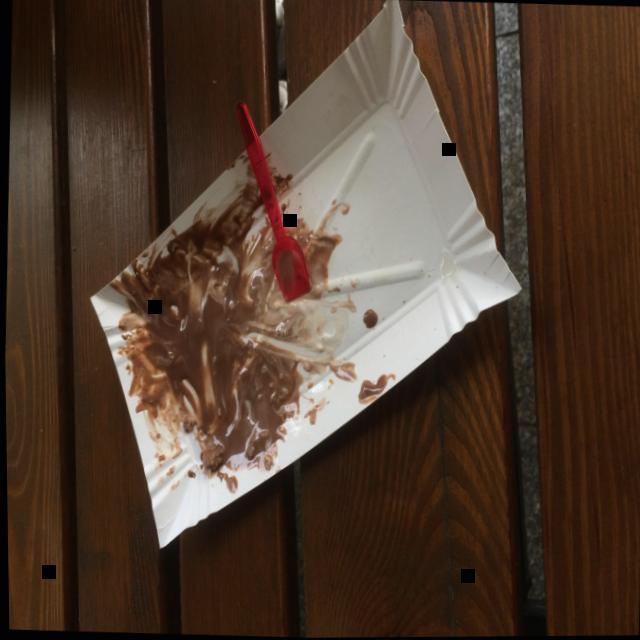Meal carton: (87, 0, 519, 549)
Plastic utensils: (235, 101, 308, 304)
